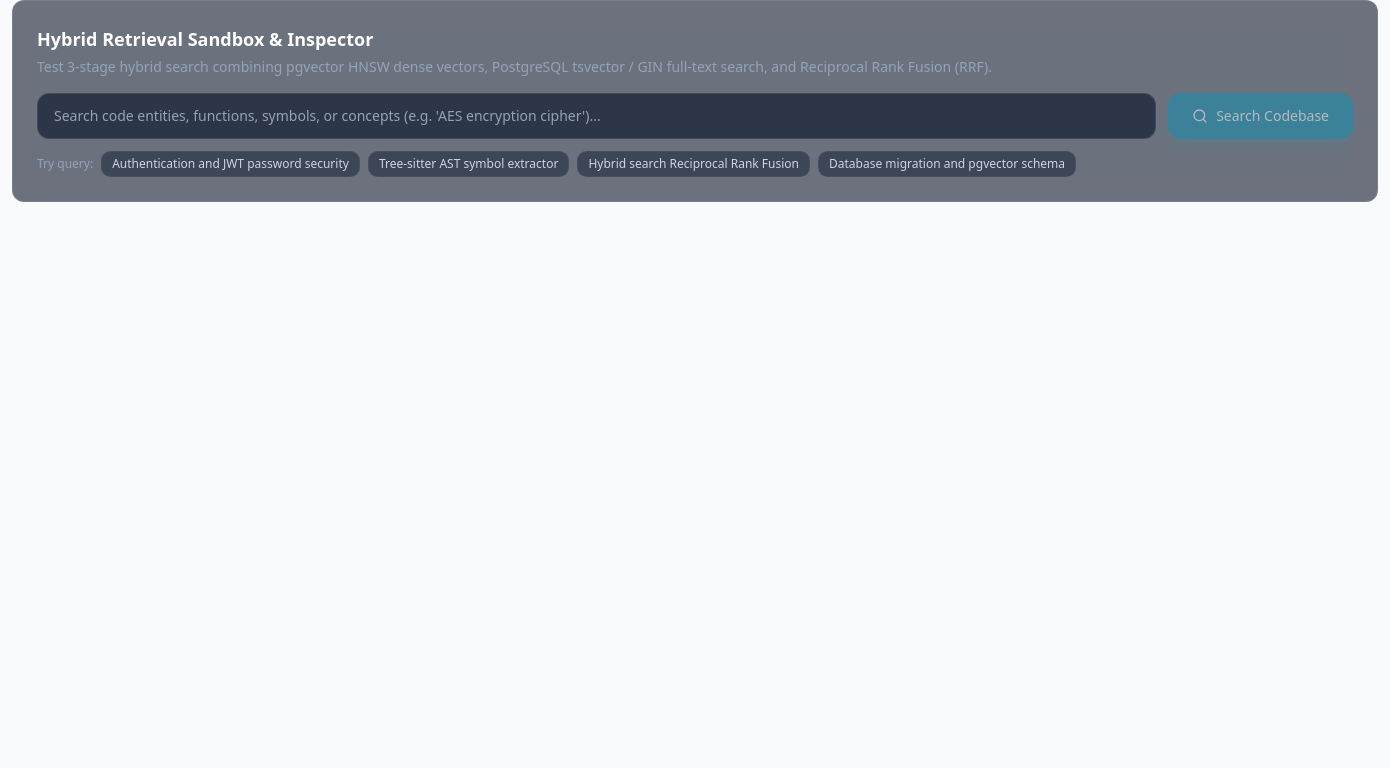
Test: RetrievalSandbox Collapsible Evidence Chunks › expands an individual chunk when clicked and collapses on second click
Replace the text in the field with placeholder "Search code entities" with "authentication tokens" at (597, 116), box [37, 93, 1156, 139]
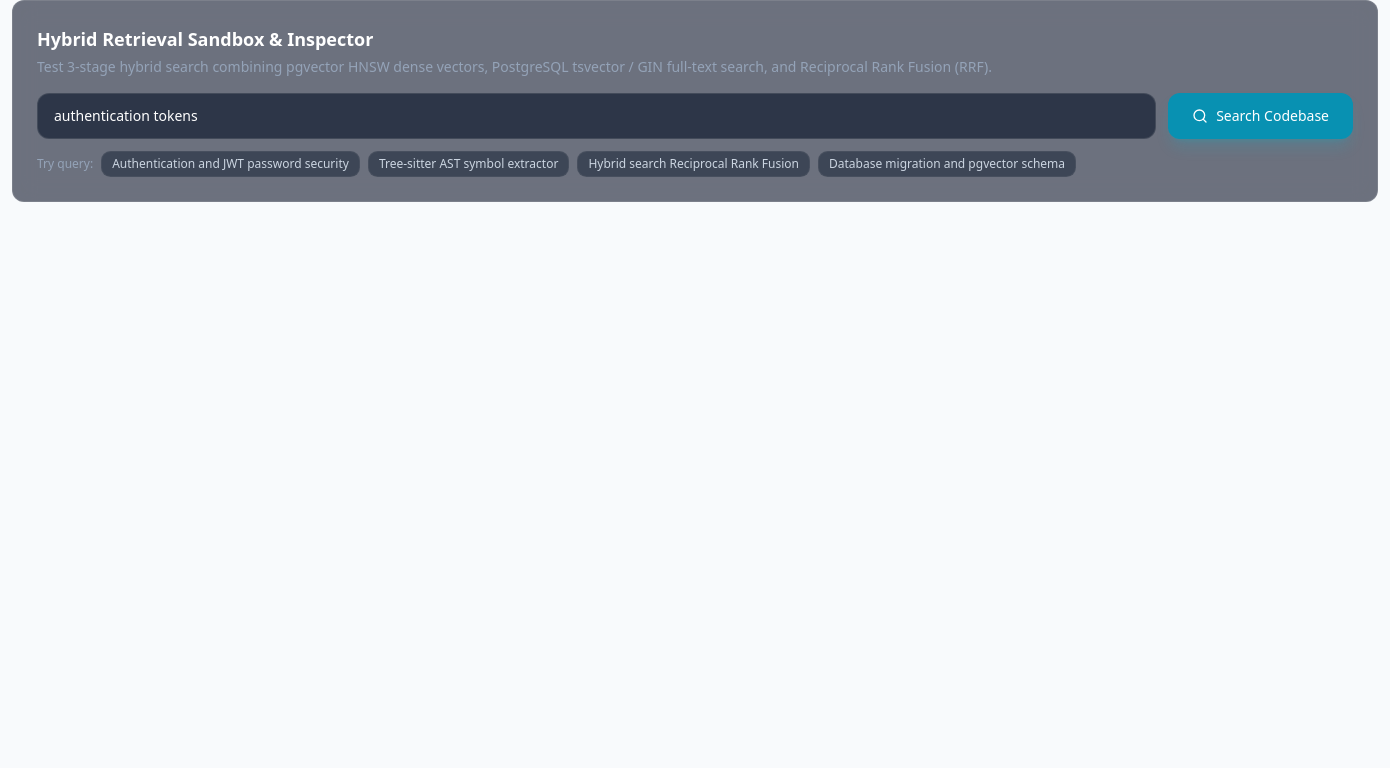
Click the button "Search Codebase" at (1261, 116), box [1168, 93, 1353, 139]
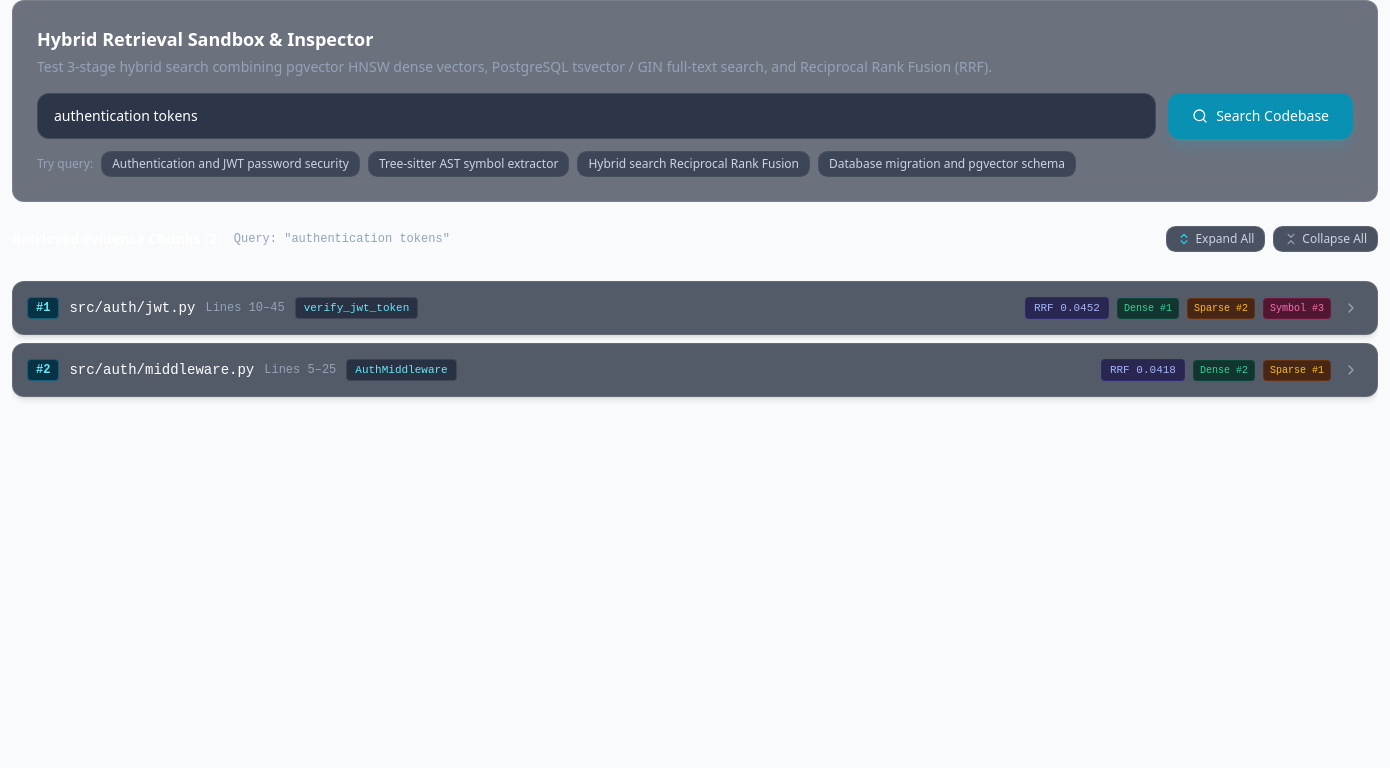
Result: the text "src/auth/jwt.py" is shown at [69, 298, 195, 318]
// Click on chunk 1 row to expand
Click the button "src/auth/jwt.py" at (43, 308), box [13, 282, 1377, 334]
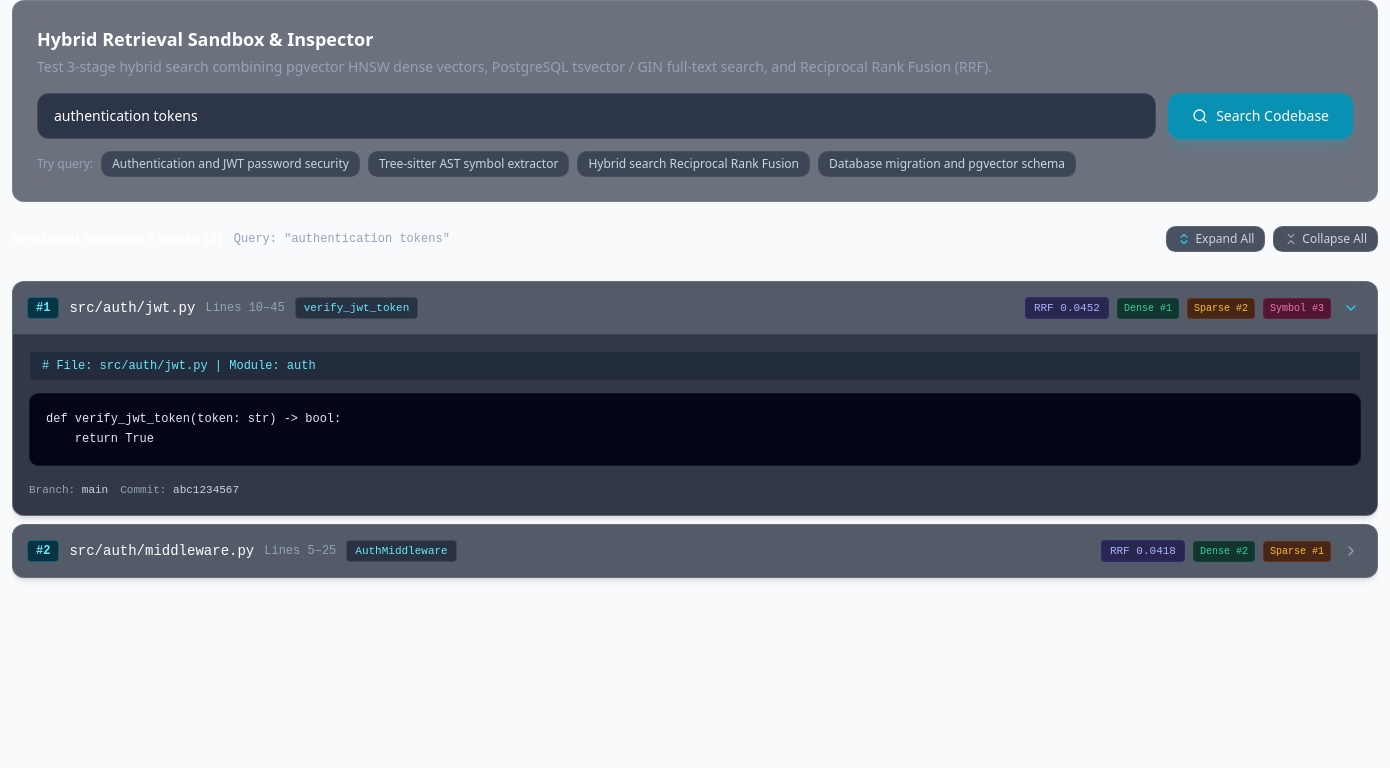
Result: the text "def verify_jwt_token(token: str) -> bool: return True" is shown at [46, 412, 341, 446]
// Click chunk 1 again to collapse
Click the button "src/auth/jwt.py" at (43, 308), box [13, 282, 1377, 334]
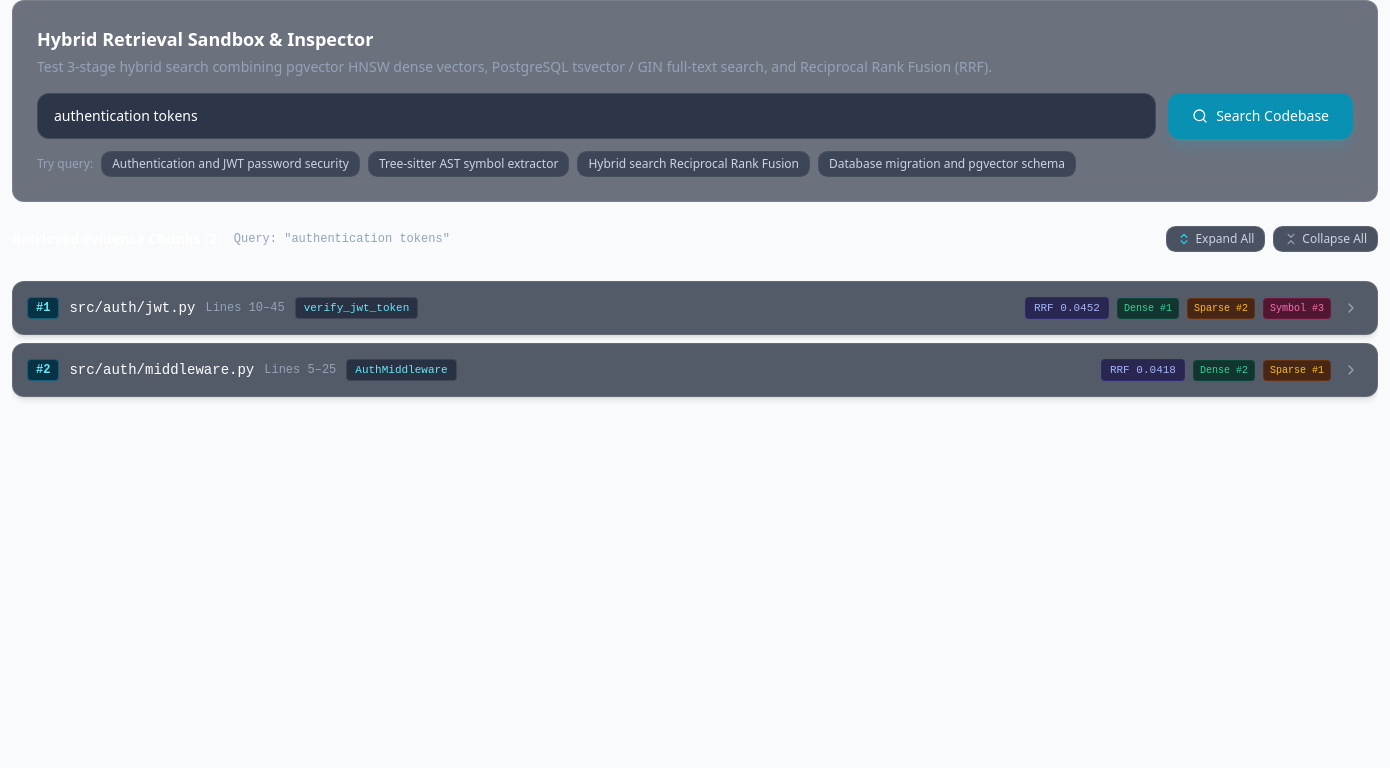
Result: the text "def verify_jwt_token" is gone
